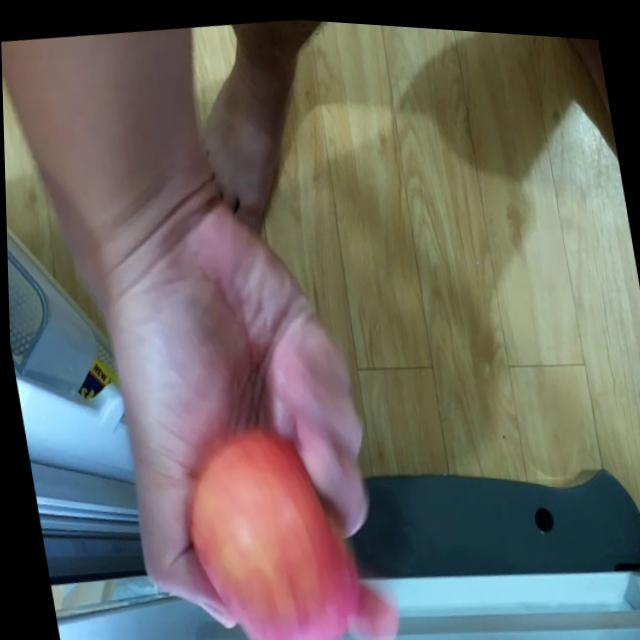apple: (172, 409, 367, 640)
